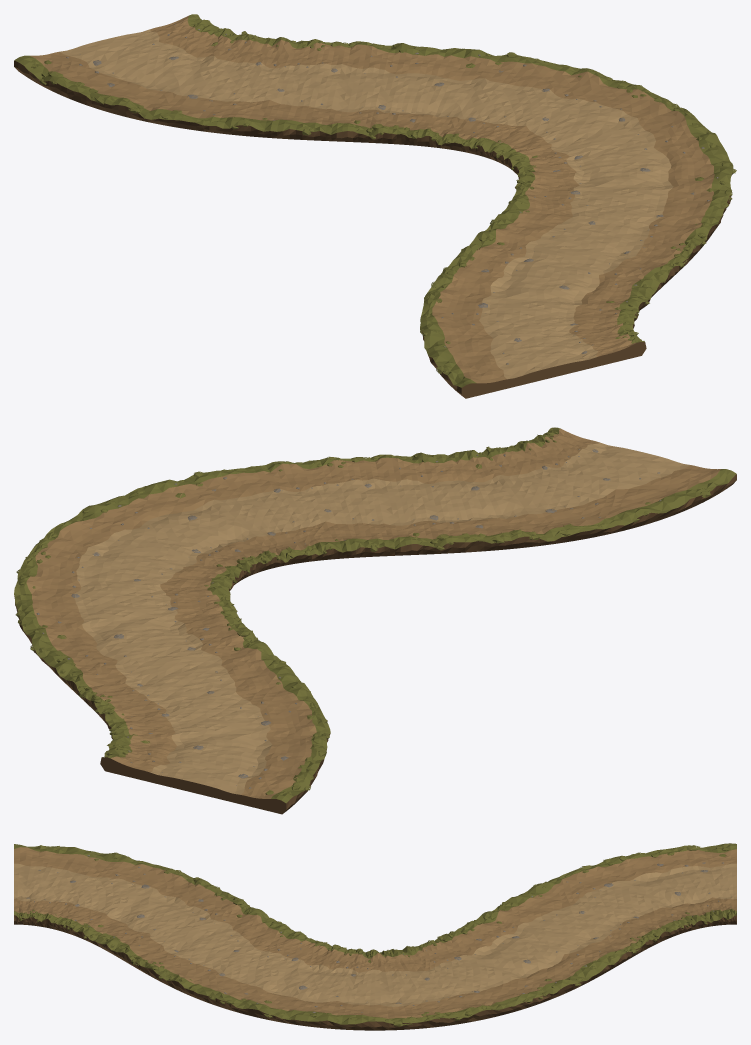
Rendered from ironwood_forest_path_moduleS.glb.
3 views of the same model, one above another, from view 1: azimuth 30°, elevation 25°; view 2: azimuth 150°, elevation 25°; view 3: azimuth 270°, elevation 25° (orthographic). The views are drawn at different scales.
Visible parts, largest first — view 1: path_worn_center_1, path_worn_center_4, path_worn_center_3, path_worn_center_2, path_dirt_right_2, path_dirt_left_4, path_dirt_right_3, path_dirt_left_1, path_dirt_right_1, path_dirt_left_3, path_dirt_right_4, path_dirt_left_2 (+15 smaller); view 2: path_worn_center_2, path_worn_center_1, path_worn_center_4, path_worn_center_3, path_dirt_right_3, path_dirt_left_1, path_dirt_right_2, path_dirt_left_4, path_dirt_right_4, path_dirt_left_2, path_dirt_right_1, path_dirt_left_3 (+15 smaller); view 3: path_worn_center_2, path_worn_center_3, path_worn_center_1, path_worn_center_4, path_dirt_left_4, path_dirt_left_1, path_dirt_right_2, path_dirt_right_3, path_dirt_left_3, path_dirt_left_2, path_dirt_right_4, path_dirt_right_1 (+16 smaller).
Boxes of the visible parts, x1,y1,x2,y2 form: path_worn_center_1: (60, 29, 357, 111); path_worn_center_4: (479, 244, 621, 379); path_worn_center_3: (528, 127, 673, 261); path_worn_center_2: (347, 67, 641, 149); path_dirt_right_2: (357, 45, 681, 127); path_dirt_left_4: (432, 234, 527, 383); path_dirt_right_3: (623, 113, 714, 265); path_dirt_left_1: (30, 51, 346, 124); path_dirt_right_1: (150, 15, 361, 68); path_dirt_left_3: (496, 150, 579, 243); path_dirt_right_4: (569, 261, 662, 356); path_dirt_left_2: (344, 109, 551, 153); path_worn_center_2: (73, 541, 220, 676); path_worn_center_1: (125, 658, 272, 794); path_worn_center_4: (391, 442, 690, 525); path_worn_center_3: (104, 478, 400, 563); path_dirt_right_3: (65, 458, 390, 541); path_dirt_left_1: (221, 649, 316, 798); path_dirt_right_2: (26, 527, 124, 680); path_dirt_left_4: (401, 465, 720, 539); path_dirt_right_4: (386, 429, 599, 483); path_dirt_left_2: (160, 564, 251, 658); path_dirt_right_1: (84, 676, 176, 772); path_dirt_left_3: (195, 521, 404, 567); path_worn_center_2: (375, 924, 588, 1006); path_worn_center_3: (162, 925, 375, 1005); path_worn_center_1: (521, 863, 736, 944); path_worn_center_4: (14, 863, 229, 944); path_dirt_left_4: (14, 847, 252, 924); path_dirt_left_1: (498, 849, 736, 924); path_dirt_right_2: (375, 945, 617, 1018); path_dirt_right_3: (132, 945, 375, 1016); path_dirt_left_3: (230, 915, 375, 972); path_dirt_left_2: (375, 915, 519, 971); path_dirt_right_4: (14, 899, 160, 950); path_dirt_right_1: (589, 897, 736, 950).
Size of the model in its own units: 14.77 by 0.5017 by 25.18.
